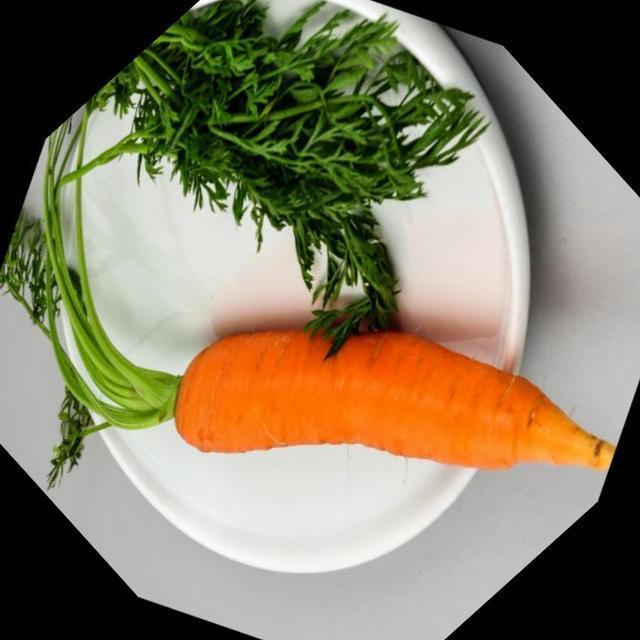Carrot: (175, 330, 614, 469)
